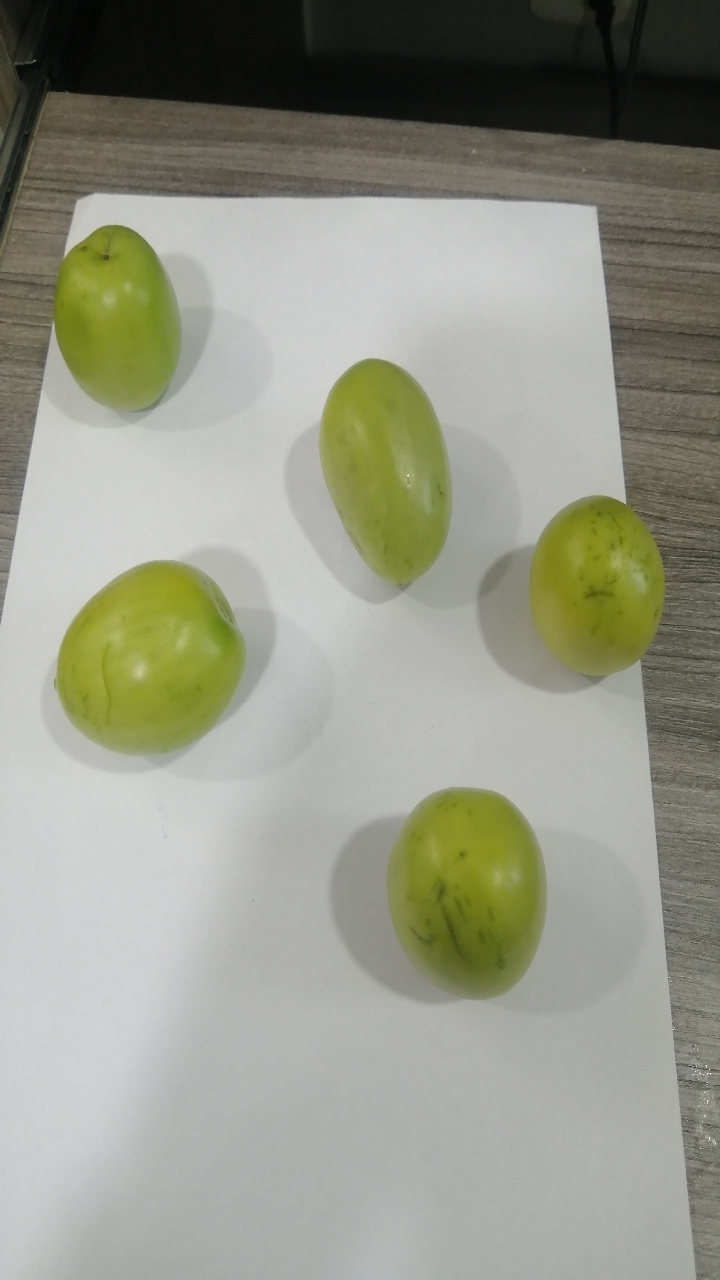tomateVerde: (366, 765, 597, 1026), (35, 542, 271, 765), (300, 335, 468, 611), (503, 466, 686, 692), (28, 203, 200, 434)
